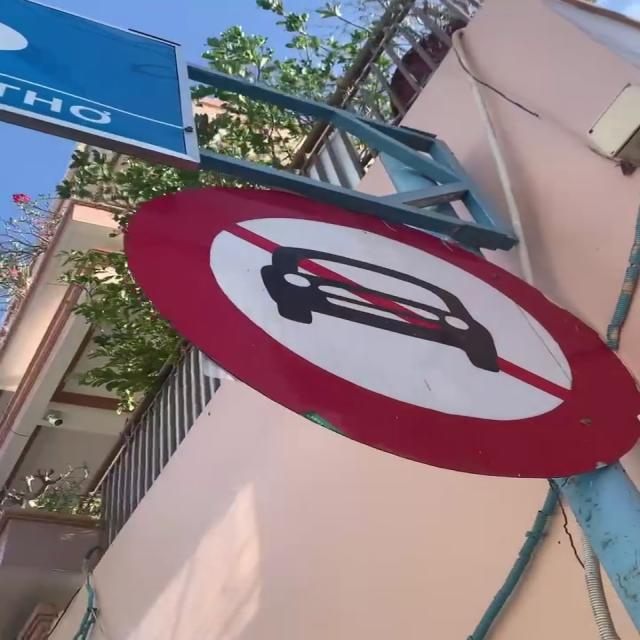Cam_O_To: (117, 181, 640, 477)
